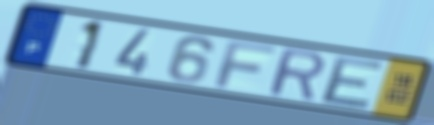1: (75, 18, 107, 70)
4: (112, 27, 152, 76)
6: (165, 35, 215, 84)
E: (317, 55, 388, 111)
F: (213, 39, 279, 90)
R: (267, 46, 327, 103)
